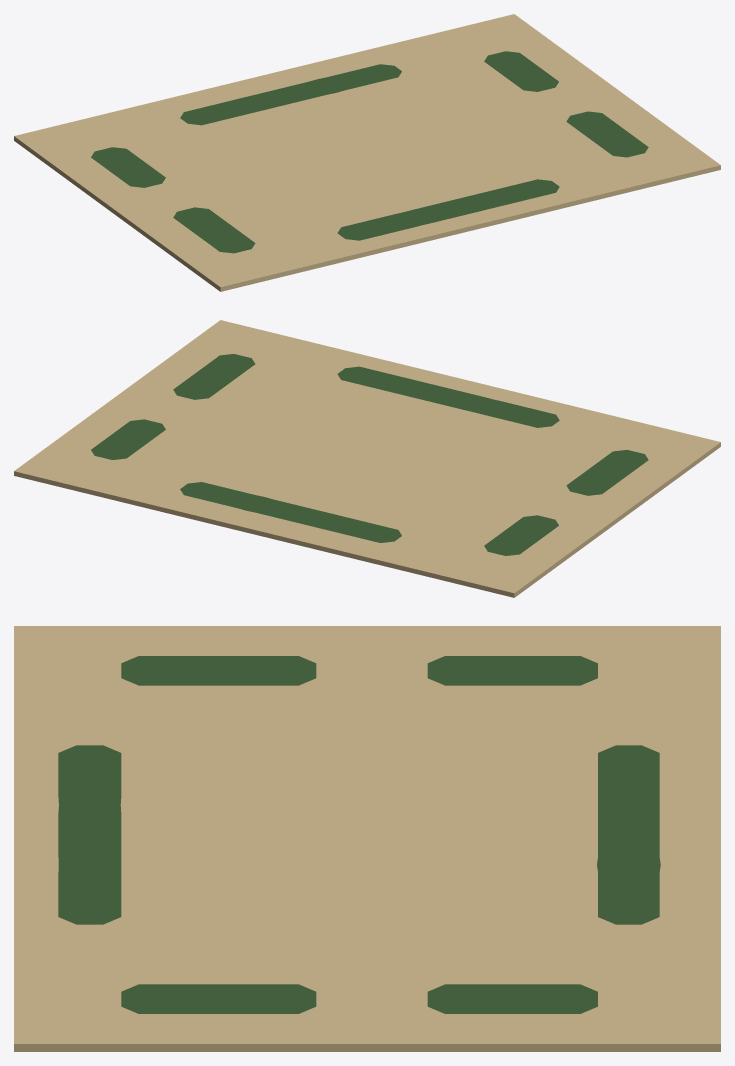
The model's file is Ground.glb.
The picture shows the model from 3 angles, top to bottom: view 1: azimuth 30°, elevation 25°; view 2: azimuth 150°, elevation 25°; view 3: azimuth 270°, elevation 25°; orthographic projection. The views are drawn at different scales.
Parts seen in each view (by area): view 1: Ground; view 2: Ground; view 3: Ground.
Boxes of the visible parts, x1,y1,x2,y2 form: Ground: (14,14,720,291); Ground: (14,320,720,597); Ground: (14,626,720,1051).
Size of the model in its own units: 224 by 2 by 160.
Materials: 1 (1 with a texture image).
